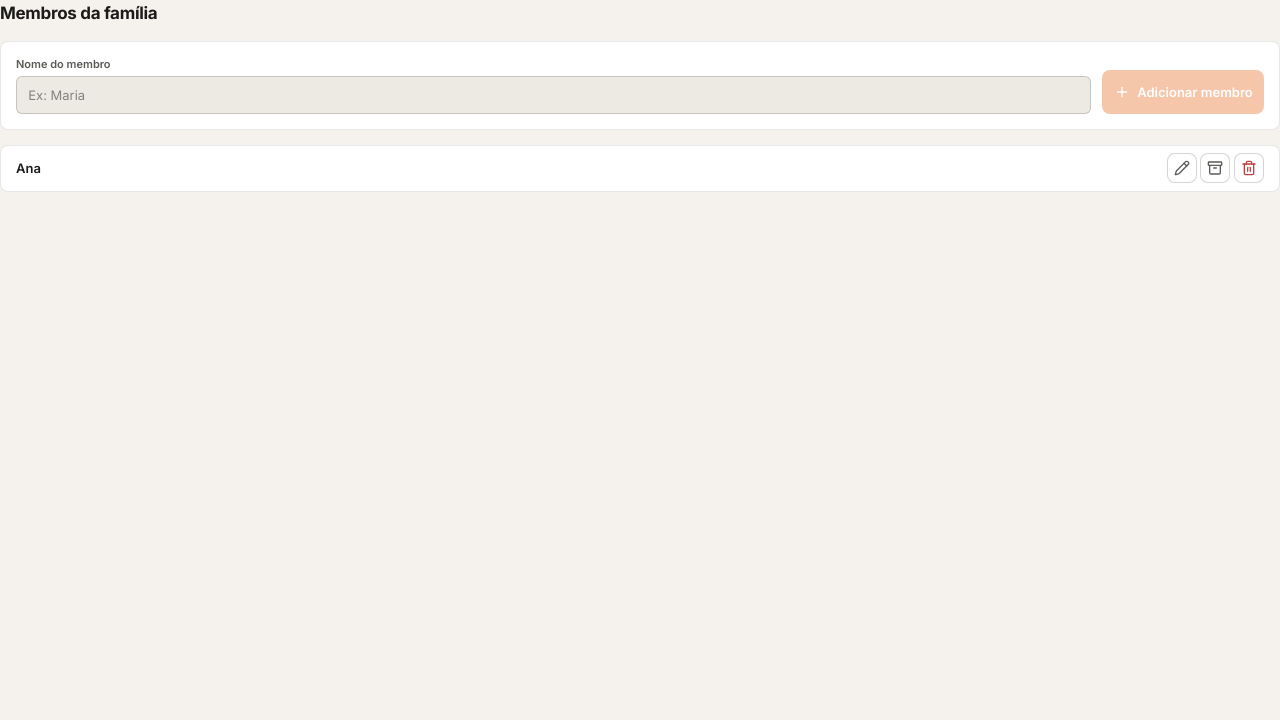
Scenario: FinanceMemberManager › disables saving the rename while the name is empty
Click the button named "Renomear Ana". click: (1182, 168)
box: [1166,153,1196,183]
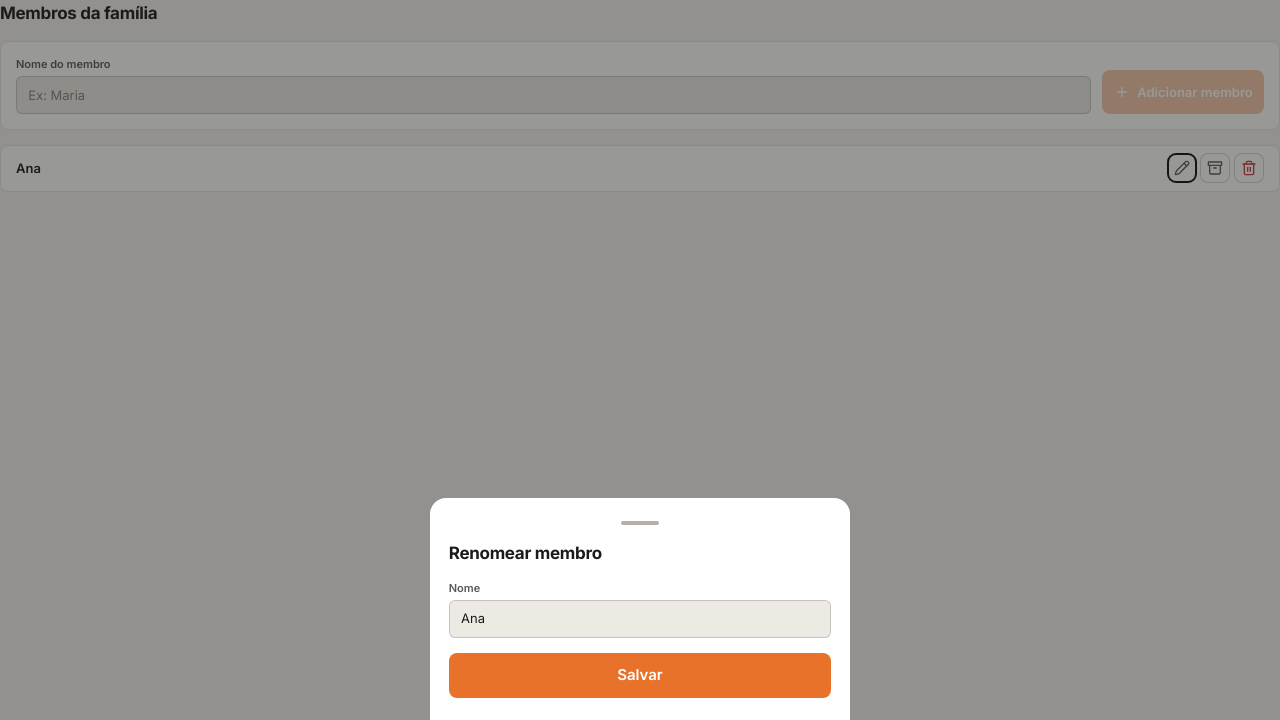
Clear the field labelled "Nome". click: (640, 618)
box: [449,600,831,638]
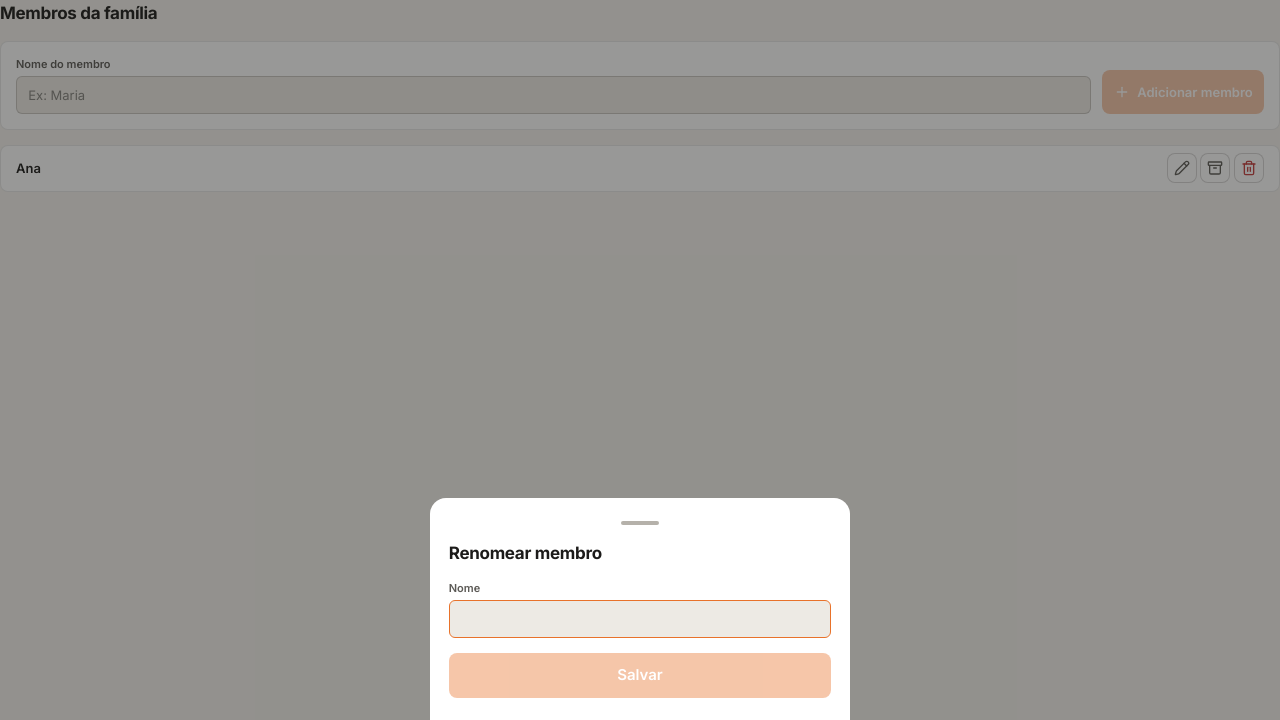
Check: the button "Salvar" is disabled, box [449,652,831,698]
